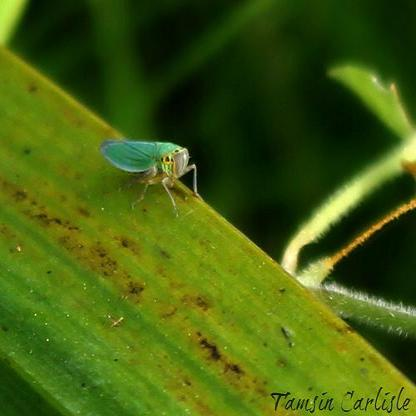Green-Leafhopper: (98, 130, 203, 213)
